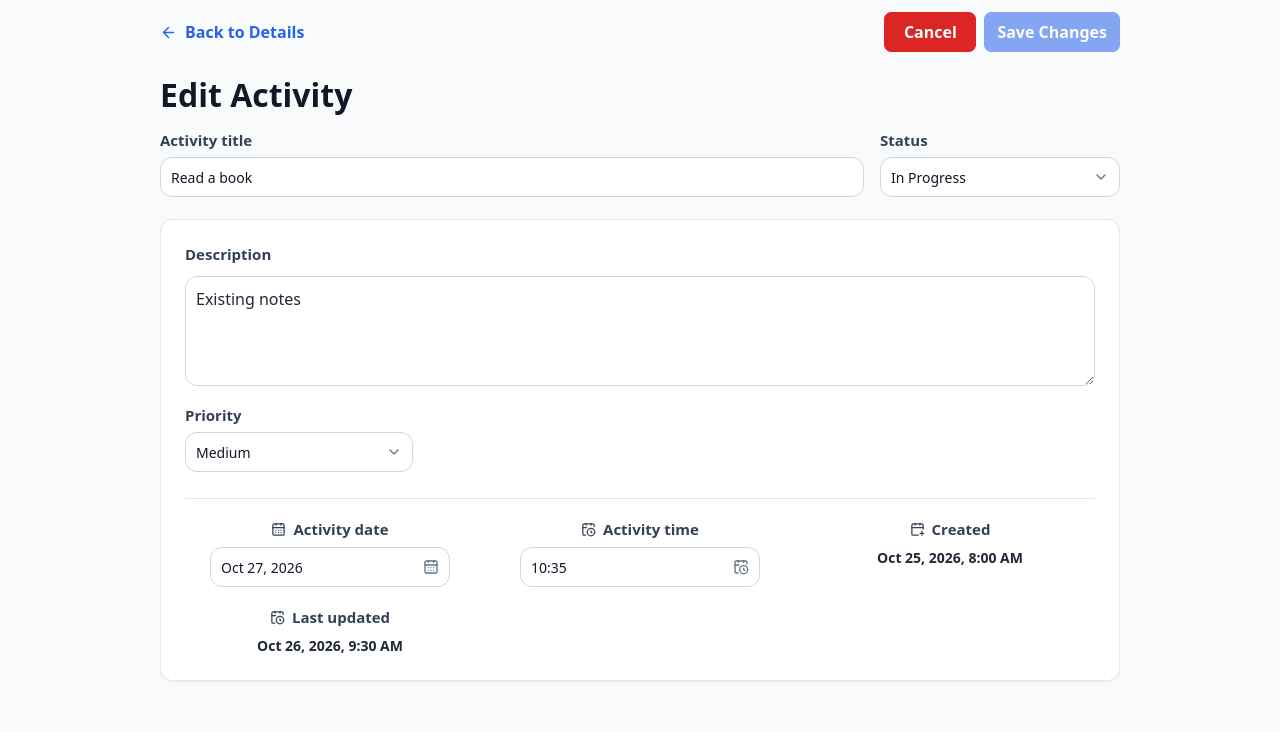
ActivityEditor › enables Edit saving after a change and reports the dirty state
The image size is (1280, 732).
Expected: the button "Save Changes" is disabled, [984, 12, 1120, 52]
Replace the text in the field labelled "Activity title" with "Read another book": (512, 177) [160, 157, 864, 197]
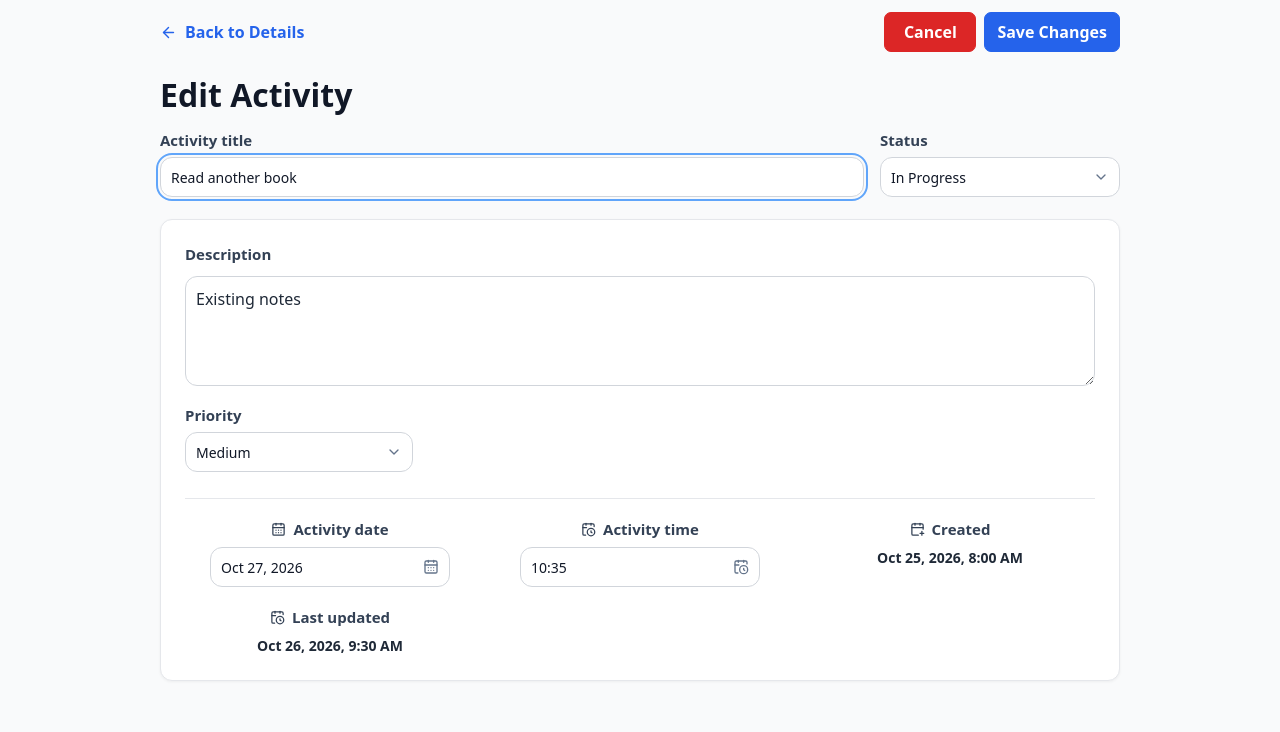
Now the button "Save Changes" is enabled, box [984, 12, 1120, 52]
